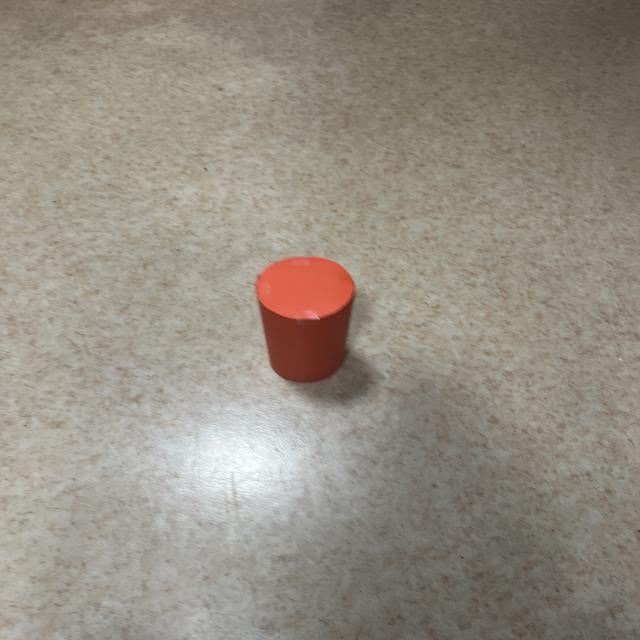przeszkoda: (255, 257, 355, 382)
